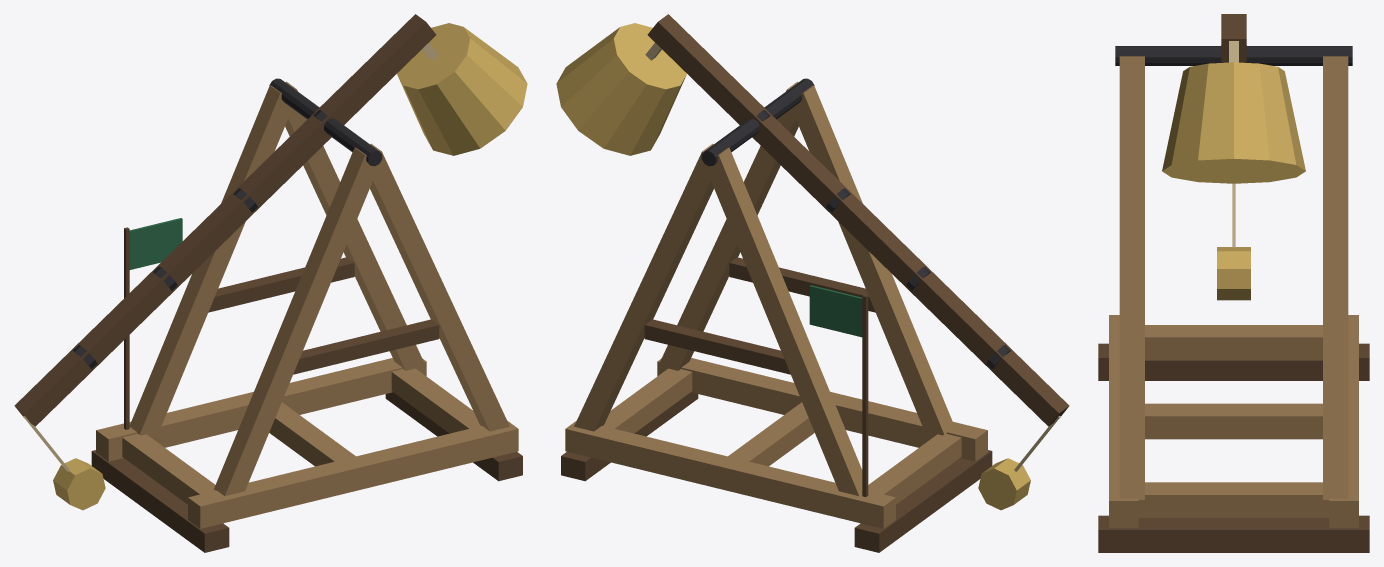
File: manjaniq_arab.glb
The picture shows the model from 3 angles, left to right: view 1: azimuth 30°, elevation 25°; view 2: azimuth 150°, elevation 25°; view 3: azimuth 270°, elevation 25°; orthographic projection. The views are drawn at different scales.
Parts seen in each view (by area): view 1: Body, Arm; view 2: Body, Arm; view 3: Body, Arm.
Boxes of the visible parts, x1,y1,x2,y2 form: Body: (91,78,522,552); Arm: (14,14,527,510); Body: (561,78,992,552); Arm: (556,14,1069,510); Body: (1098,46,1369,552); Arm: (1162,14,1305,300).
Size of the model in its own units: 8.15 by 6.67 by 3.2.
